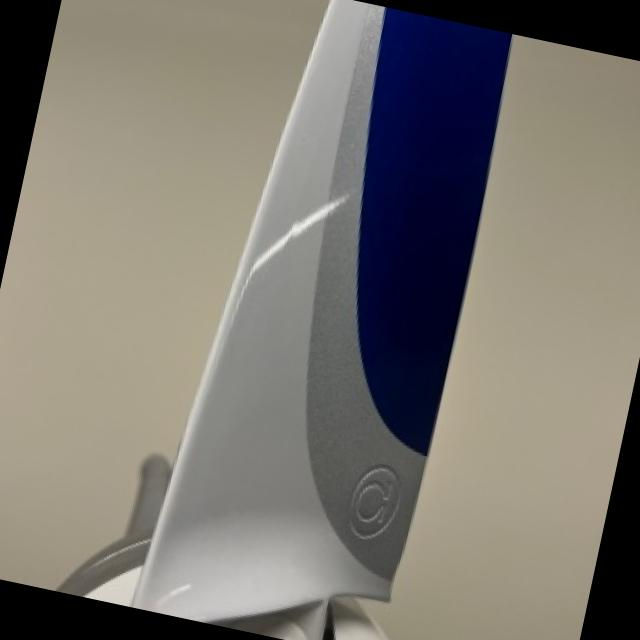healthy: (135, 0, 512, 640)
